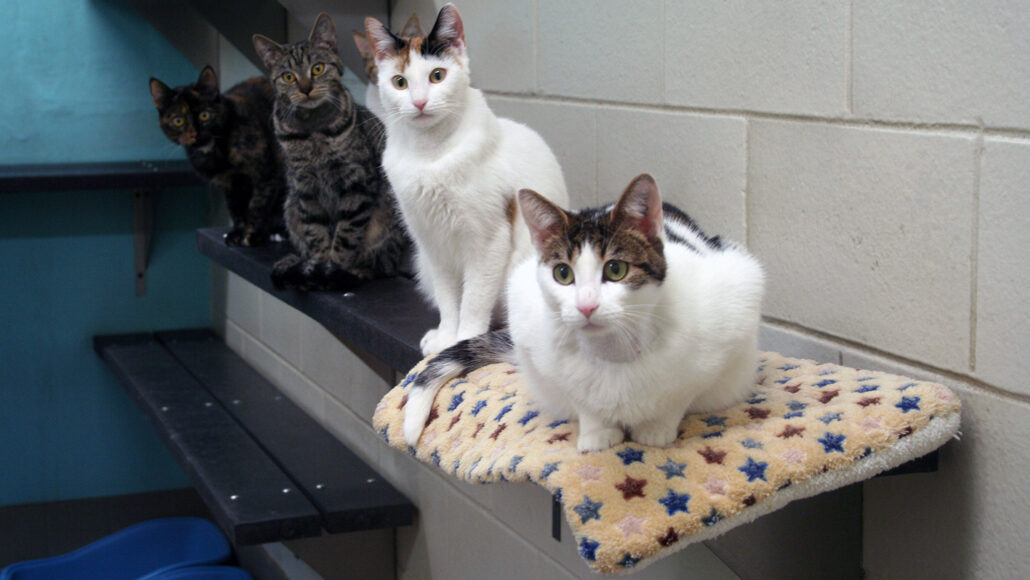cat: (362, 1, 576, 365), (504, 171, 778, 454), (244, 9, 410, 296), (139, 69, 286, 251), (353, 11, 429, 105)
